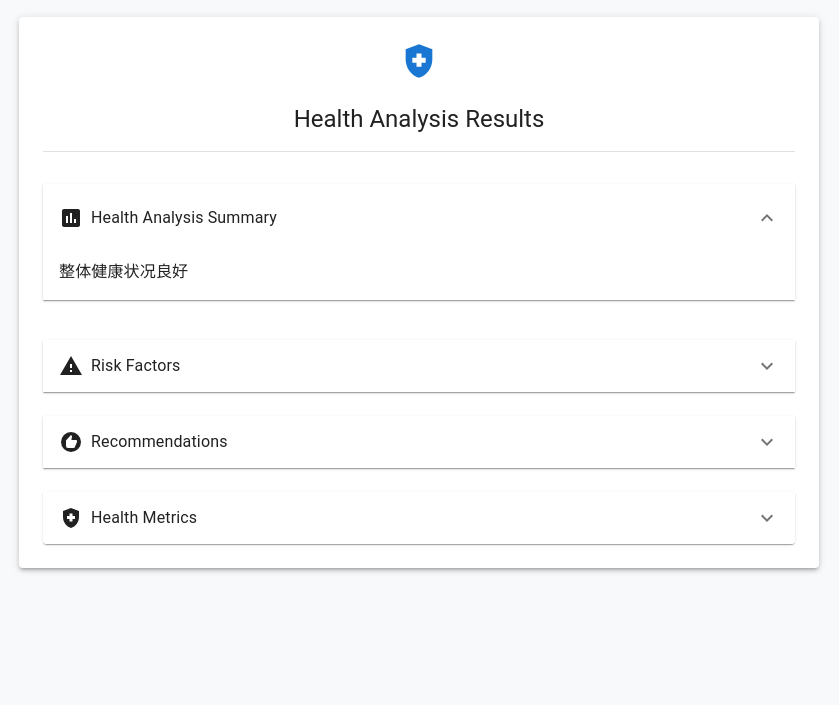
Test: AnalysisResultComponent › handles expandable sections correctly
The width and height of the screenshot is (839, 705).
Click the button "Risk Factors": [136, 366] box x1=43 y1=340 x2=795 y2=392
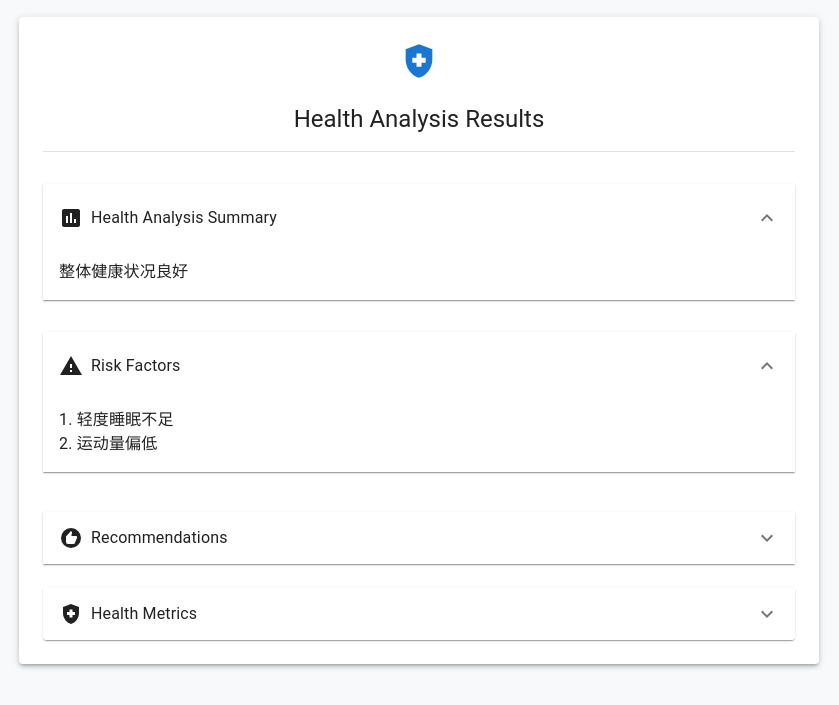
Now the button "Risk Factors" is expanded
Click the button "Risk Factors": [136, 366] box x1=43 y1=332 x2=795 y2=400
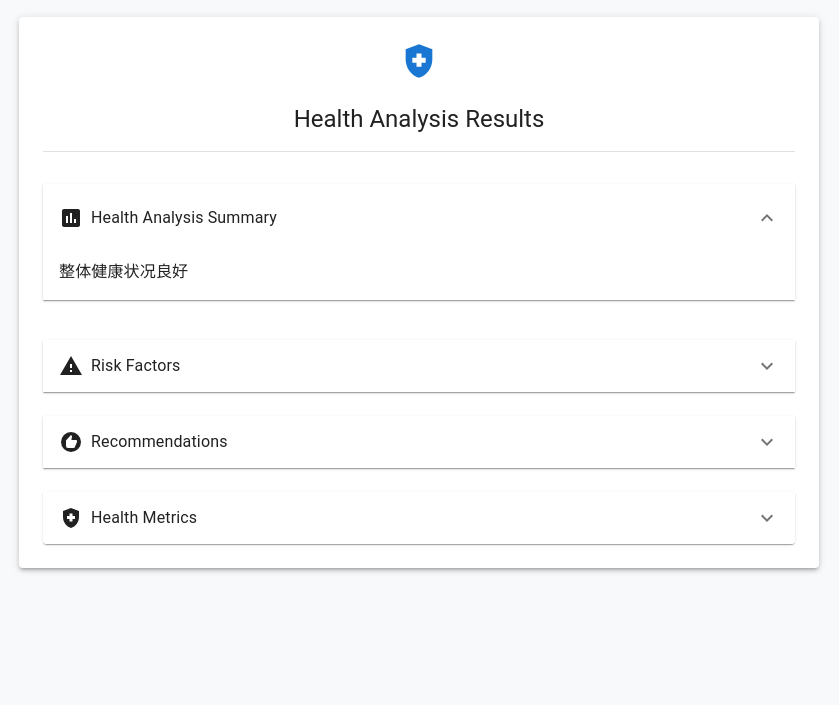
Now the button "Risk Factors" is collapsed, box x1=43 y1=340 x2=795 y2=392
Click the button "Recommendations": [159, 442] box x1=43 y1=416 x2=795 y2=468
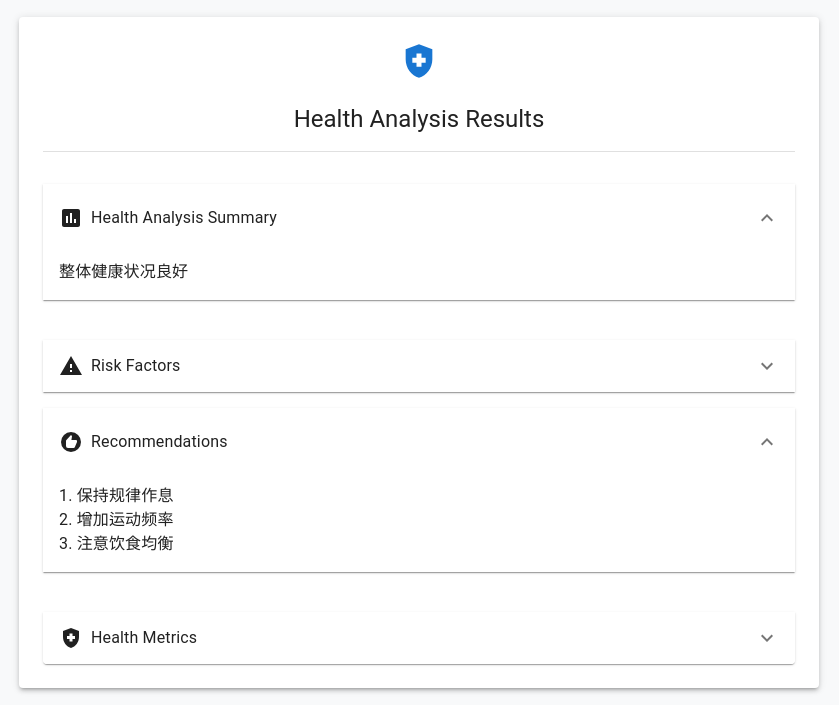
Now the button "Recommendations" is expanded
Click the button "Recommendations": [159, 442] box x1=43 y1=408 x2=795 y2=476
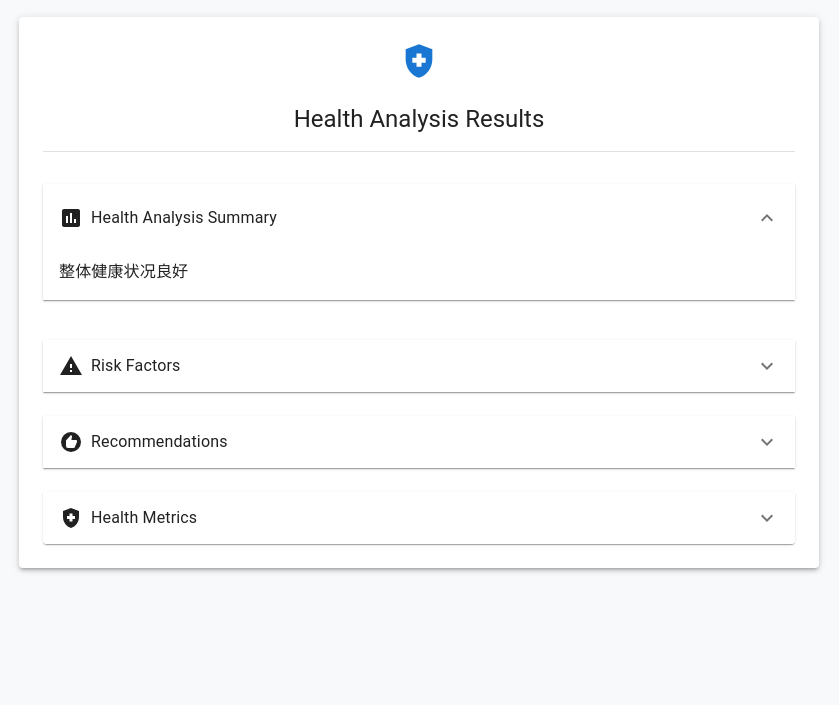
Now the button "Recommendations" is collapsed, box x1=43 y1=416 x2=795 y2=468
Click the button "Health Metrics": [144, 518] box x1=43 y1=492 x2=795 y2=544
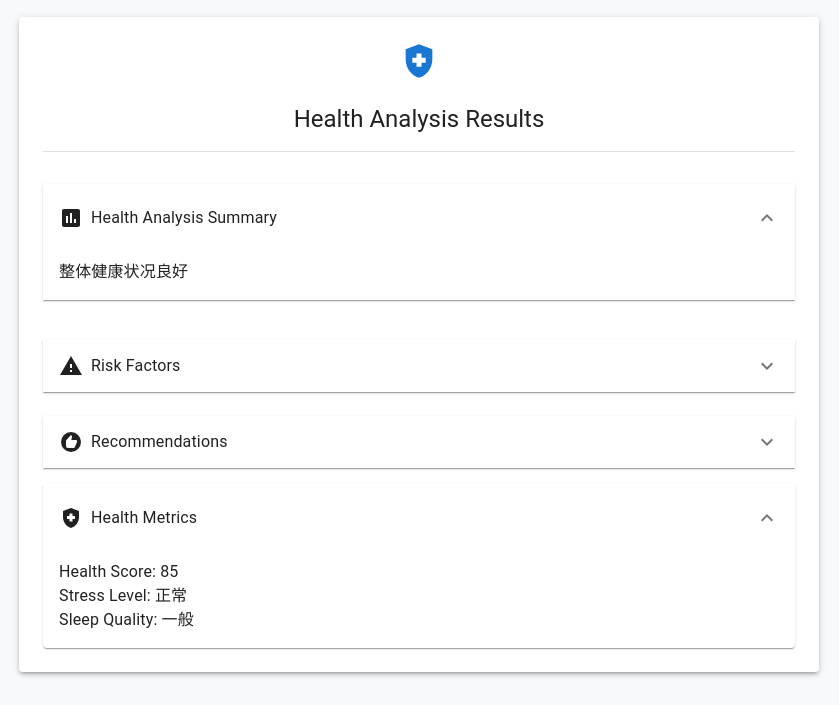
Now the button "Health Metrics" is expanded
Click the button "Health Metrics": [144, 518] box x1=43 y1=484 x2=795 y2=552
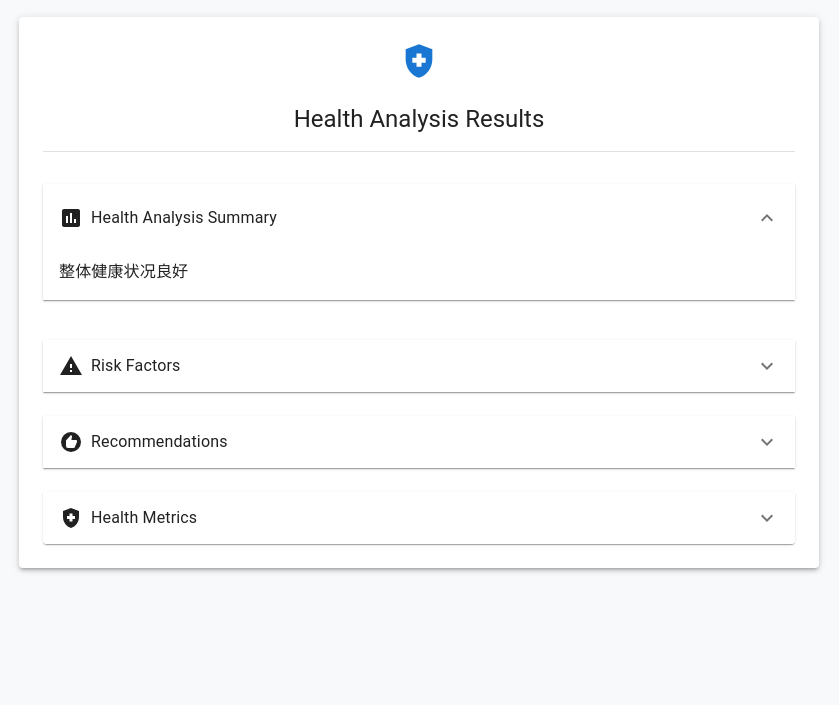
Now the button "Health Metrics" is collapsed, box x1=43 y1=492 x2=795 y2=544
